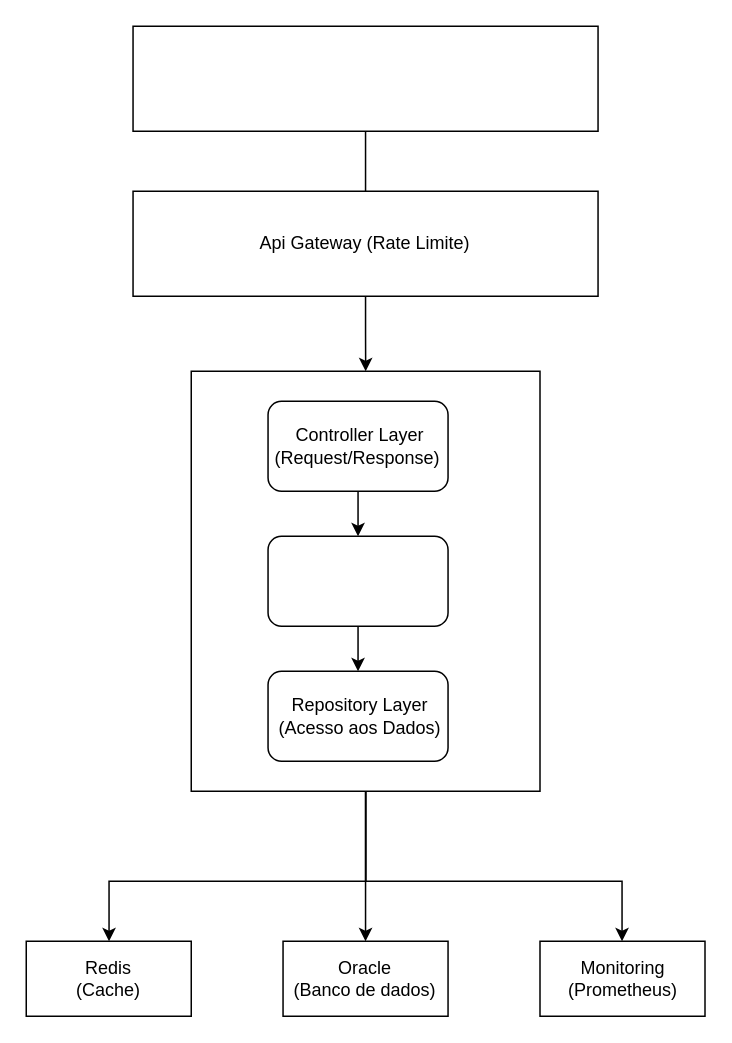
Some shapes in this 732 by 1043 pixel diagram are drawn without their labels. The centre of each missing label's shape, as x and y in pixels:
Load Balancer (Nginx): (365,78)
Service Layer (Regras de Negócio): (357,580)
